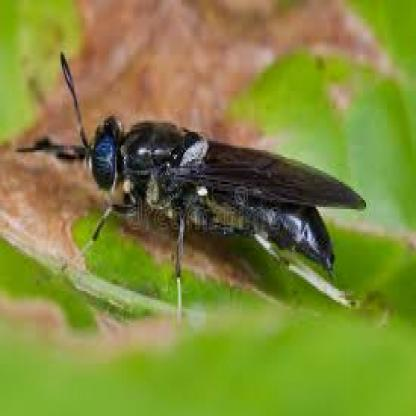sawfly: (21, 55, 368, 310)
